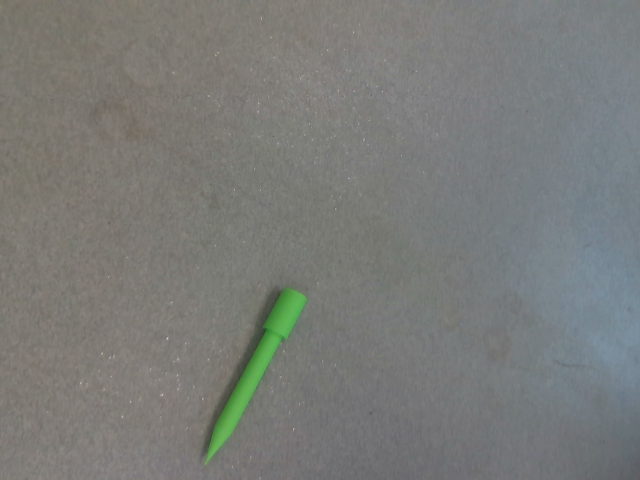Probe: (199, 283, 312, 472)
